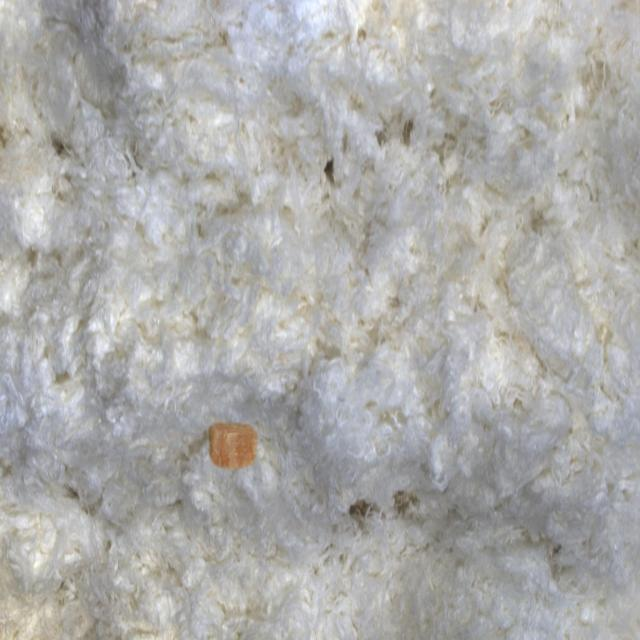dust: (172, 374, 289, 502)
